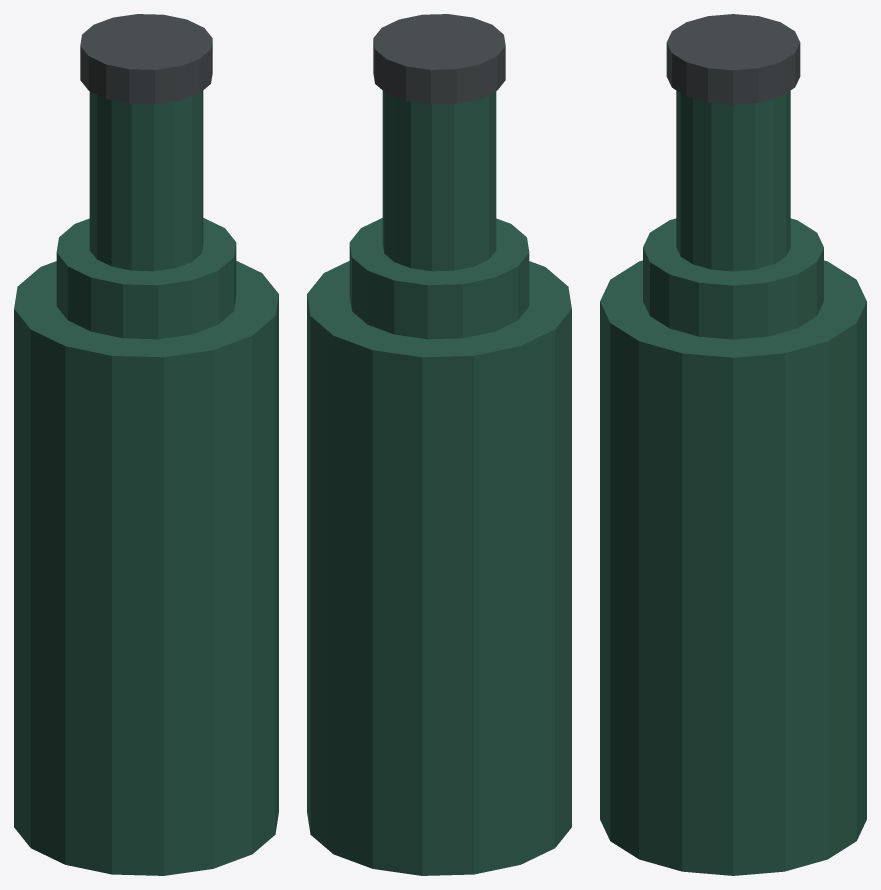
The model's file is Bottle.glb.
3 renders of one model, left to right at view 1: azimuth 30°, elevation 25°; view 2: azimuth 150°, elevation 25°; view 3: azimuth 270°, elevation 25°, orthographic.
Visible parts, largest first — view 1: Bottle; view 2: Bottle; view 3: Bottle.
Boxes of the visible parts, <box> form: Bottle: <box>14,14,278,875</box>; Bottle: <box>307,14,571,875</box>; Bottle: <box>600,14,866,875</box>.
Size of the model in its own units: 0.056 by 0.18 by 0.056.
